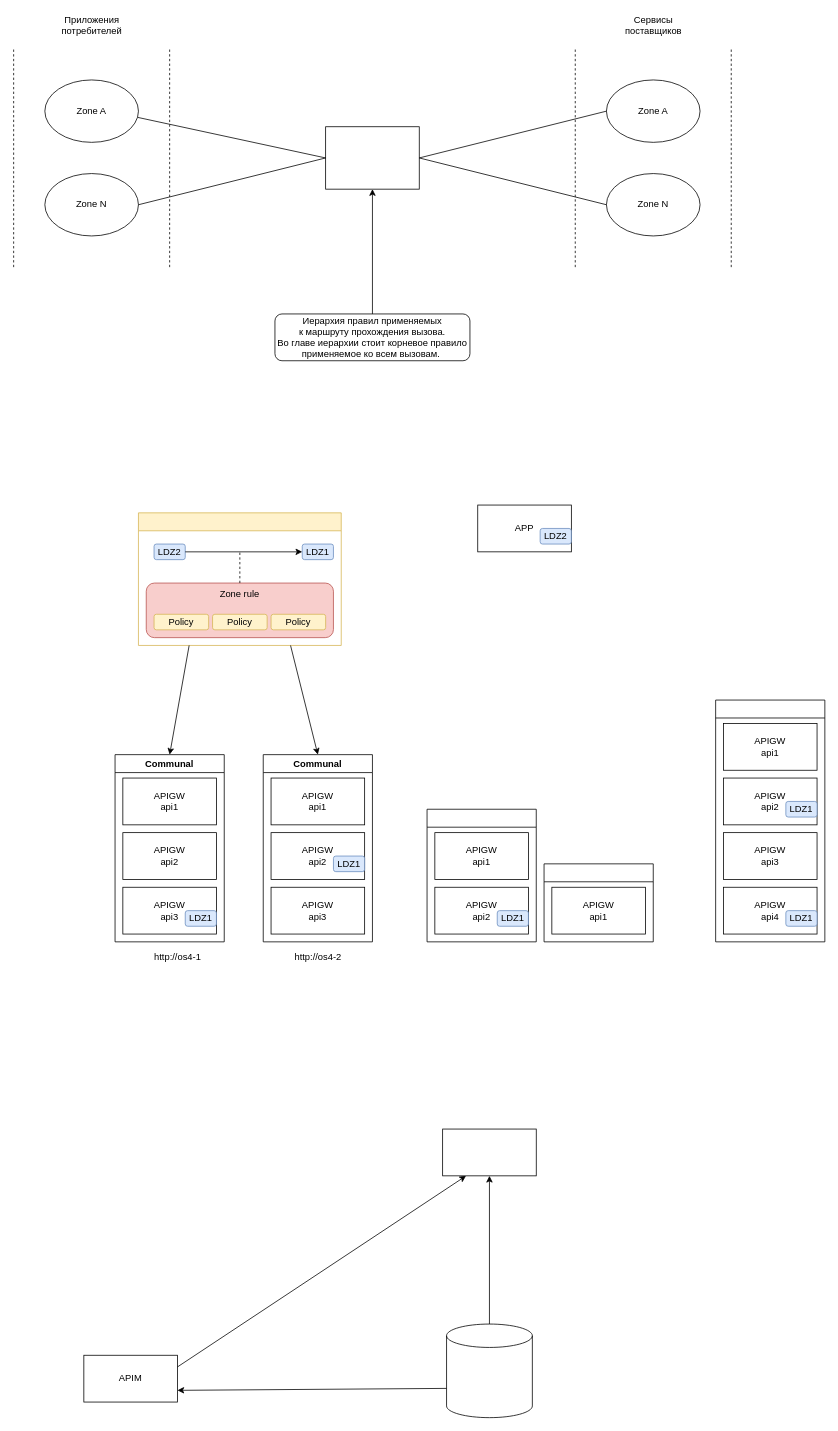
The diagram is 838 pixels wide and 1431 high, and some of its shapes have lost their labels. Here are the shapes that lost their labels. From the top down, the centre of each, then its label:
At (372,157): "API Gateway".
At (239,578): "Route table".
At (770,820): "provider10000".
At (481,875): "provider1".
At (598,902): "provider2".
At (489,1152): "Распределитель данных".
At (489,1370): "Persistence".
